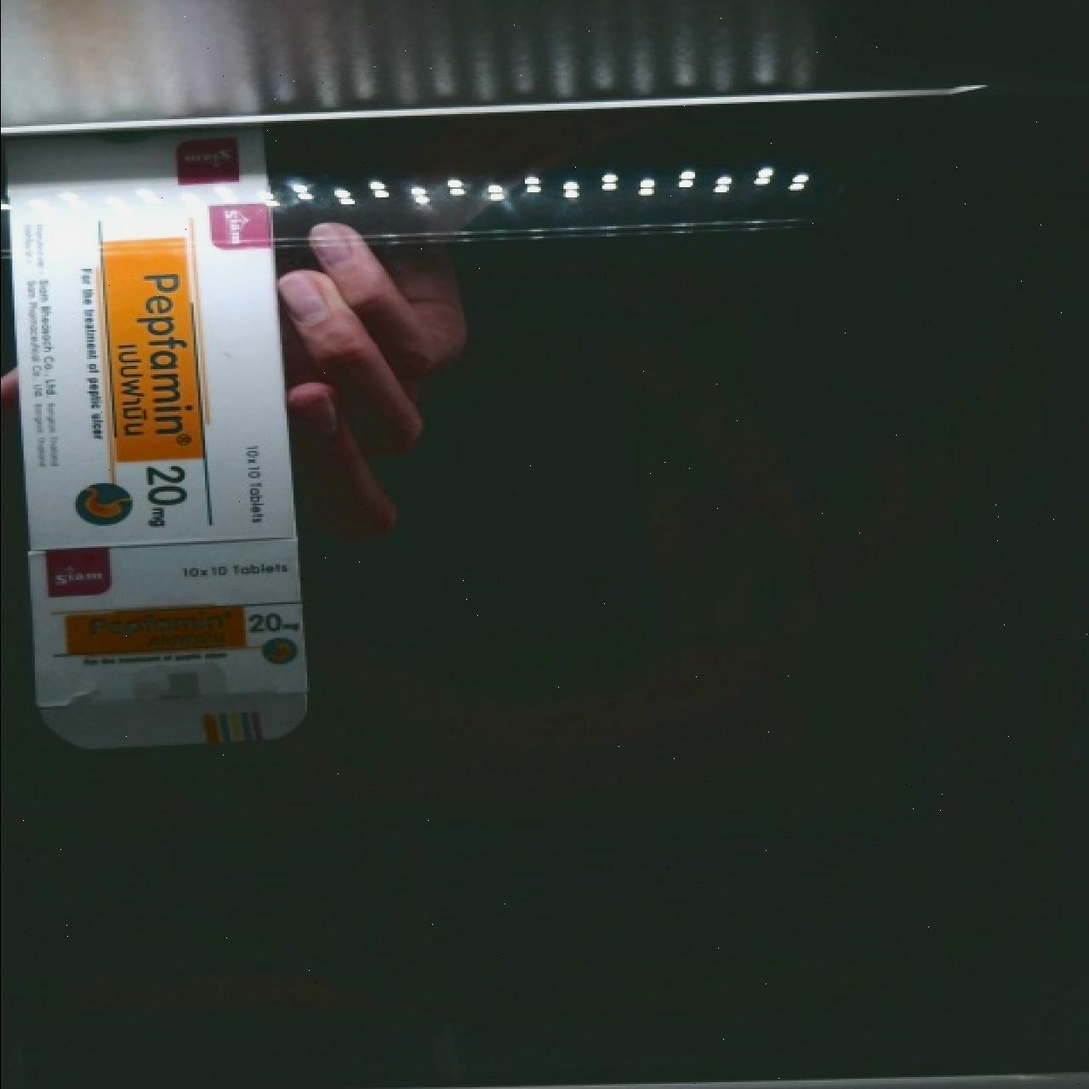medicine_label_obb: (96, 243, 205, 456)
